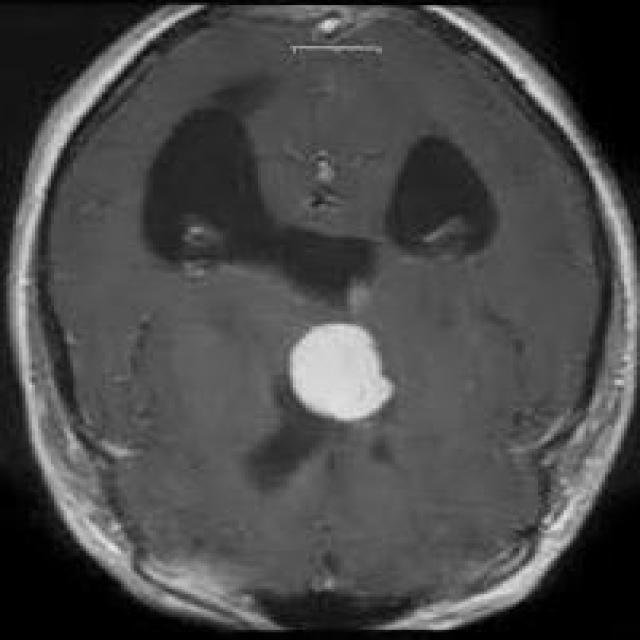Tumor-Cell: (263, 304, 406, 430)
